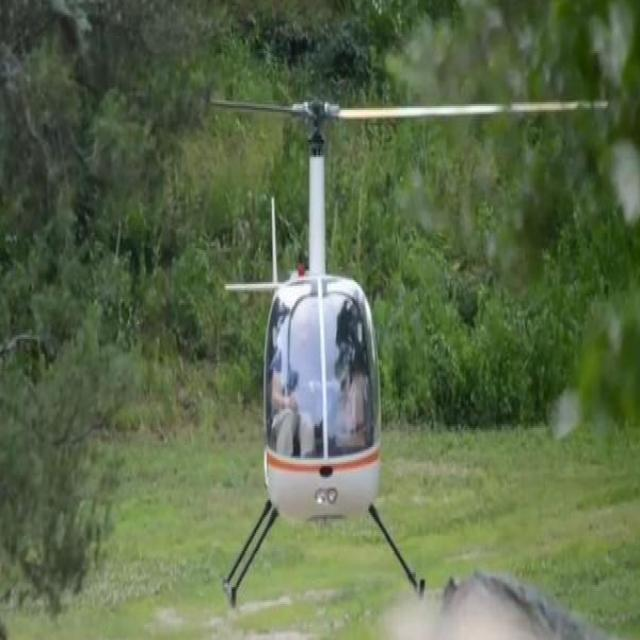helicopter: (208, 99, 605, 607)
